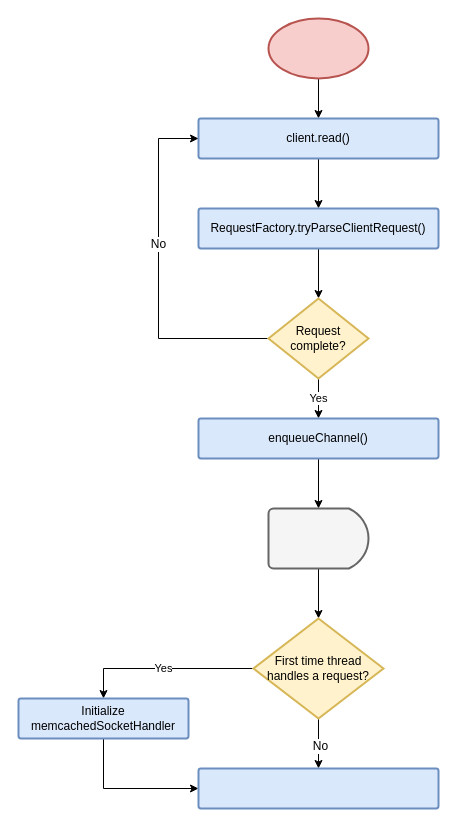
Some shapes in this 456 by 826 pixel diagram are drawn without their labels. The shapes that lost their labels are listed below. From the top down, each one's box as (x1, y1, x2, y2) in pixels, then its label:
(267, 17, 369, 79): Incoming Request
(267, 507, 369, 569): Delay until request is dequeued
(197, 767, 439, 809): request.handle()
